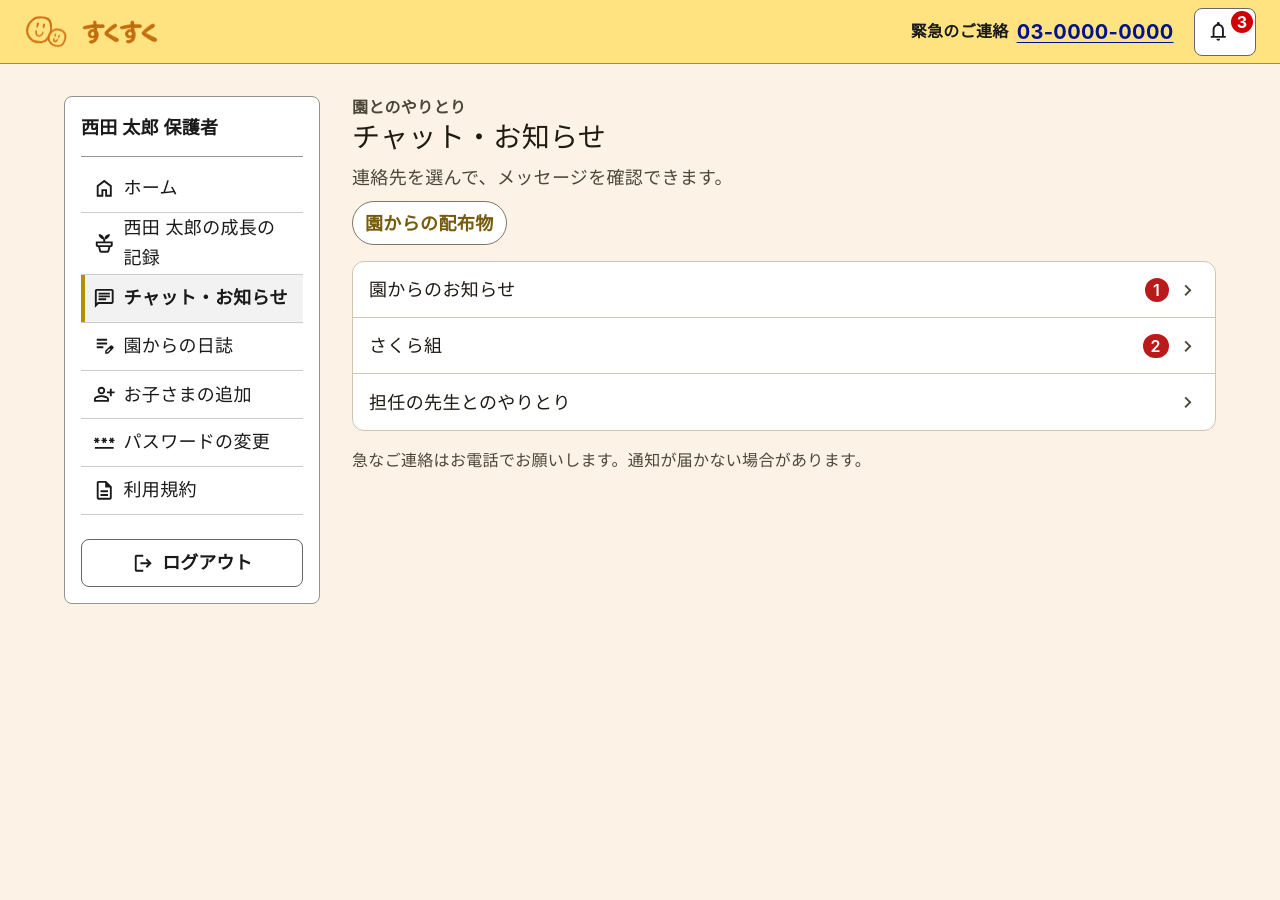
Test: 園からの配布物はチャット・お知らせから開く（職員のチャット画面と同じ形） › チャット・お知らせ画面に「園からの配布物」を置き、配布物の一覧の「戻る」はチャット・お知らせへ戻る
The image size is (1280, 900).
Click the link "園からの配布物". click: (429, 223)
box: [352,201,506,245]
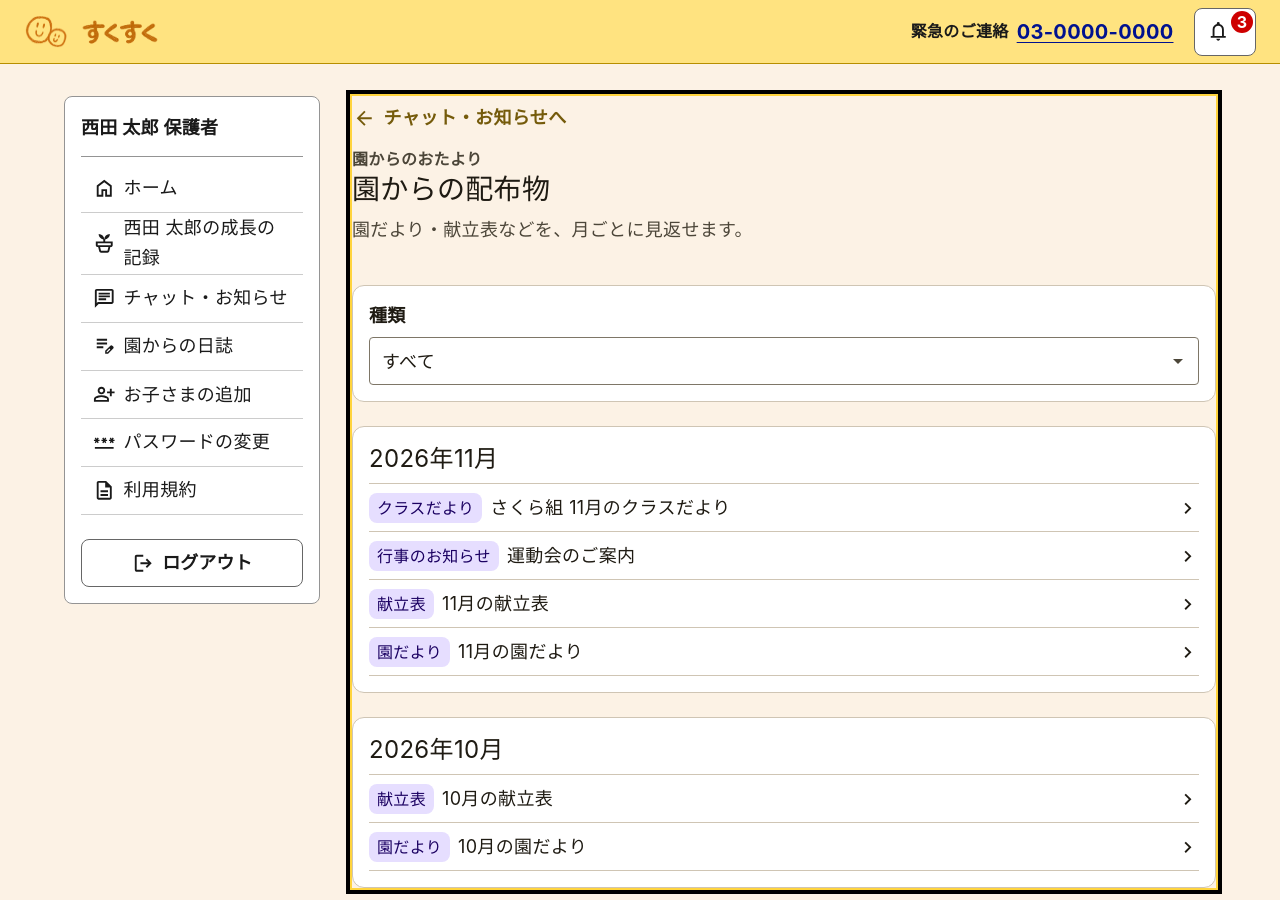
expect the heading "園からの配布物" is shown: met, box [352,172,550,206]
